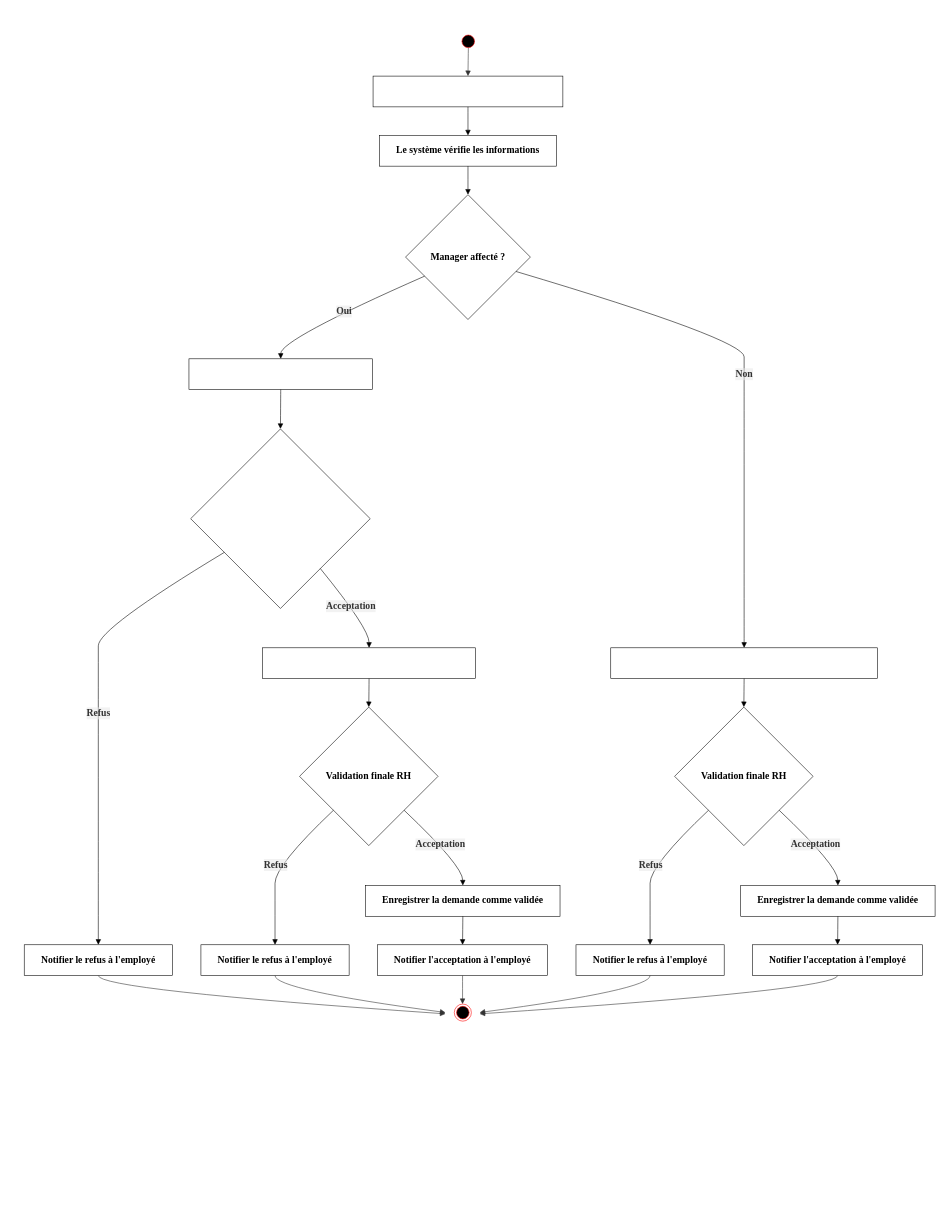
Some shapes in this 945 by 1220 pixel diagram are drawn without their labels. Each missing label, with the centre of its shape:
Employé saisit une demande de congé: point 467,91
Pré-validation du Manager: point 280,518
Transmettre directement la demande au Responsable RH: point 744,663
Transmettre la demande au Manager: point 280,374
Transmettre la demande au Responsable RH: point 369,663
